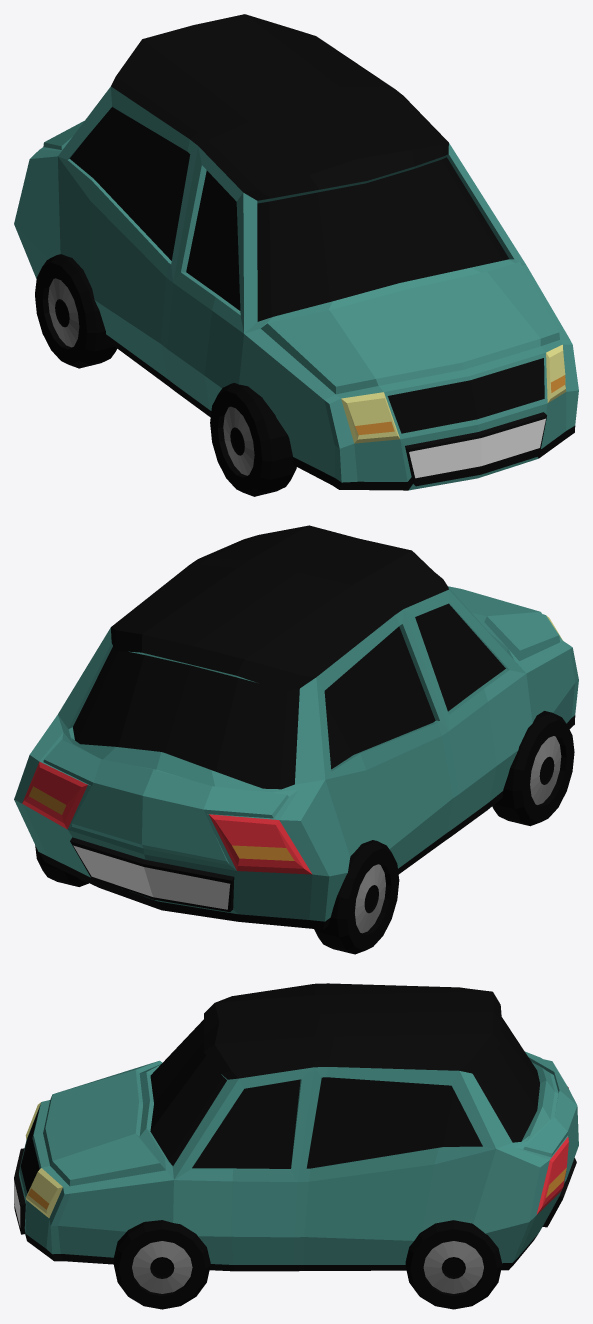
The model's file is car05.fbx.
3 renders of one model, top to bottom at view 1: azimuth 30°, elevation 25°; view 2: azimuth 150°, elevation 25°; view 3: azimuth 270°, elevation 25°, orthographic. The views are drawn at different scales.
Visible parts, largest first — view 1: Auto.004, Reifen.018, Reifen.019; view 2: Auto.004, Reifen.018, Reifen.019, Reifen.017; view 3: Auto.004, Reifen.016, Reifen.017.
Boxes of the visible parts, x1,y1,x2,y2 form: Auto.004: [14, 14, 578, 490]; Reifen.018: [210, 383, 296, 496]; Reifen.019: [35, 254, 117, 368]; Auto.004: [14, 525, 578, 929]; Reifen.018: [492, 711, 574, 826]; Reifen.019: [314, 840, 399, 954]; Reifen.017: [35, 845, 88, 886]; Auto.004: [14, 983, 578, 1271]; Reifen.016: [114, 1220, 210, 1309]; Reifen.017: [405, 1220, 501, 1309].
Bounding box in the file's own units: 229 × 198 × 426.
